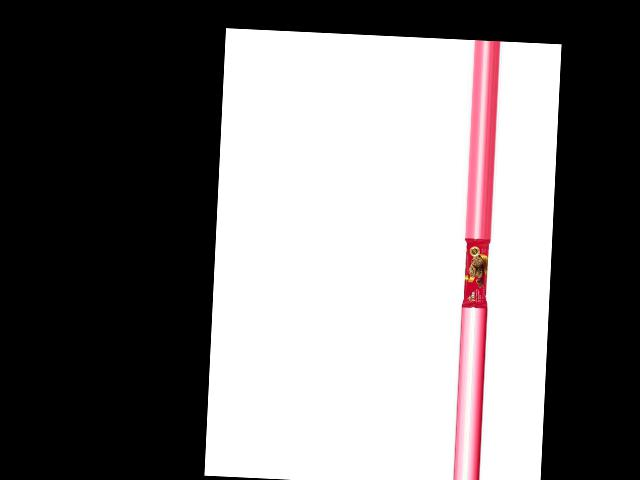chocolate: (462, 239, 492, 309)
